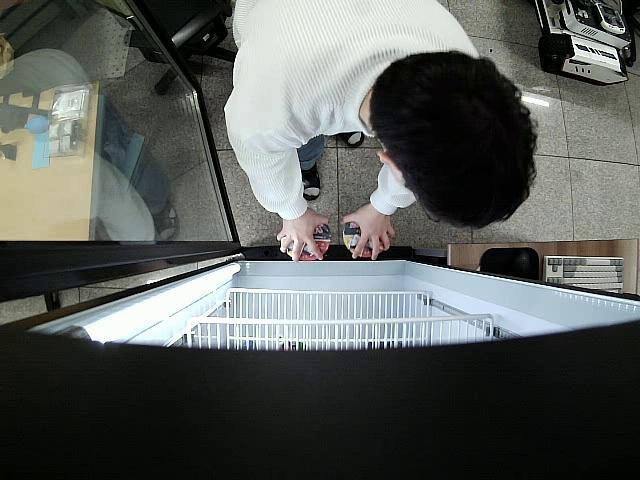07_buldak_L: (280, 224, 331, 263), (342, 218, 389, 258)
